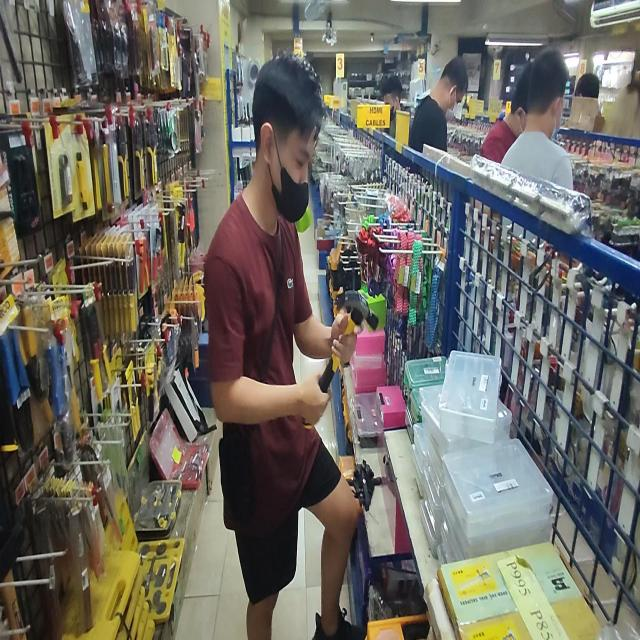hammer: (302, 291, 378, 428)
